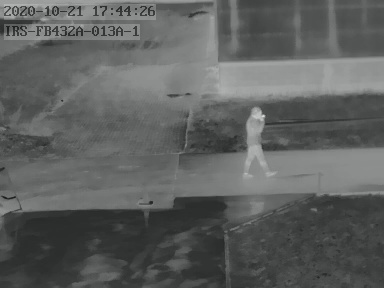person: (243, 106, 273, 175)
